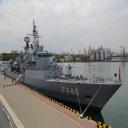Fragata: (4, 19, 125, 116)
